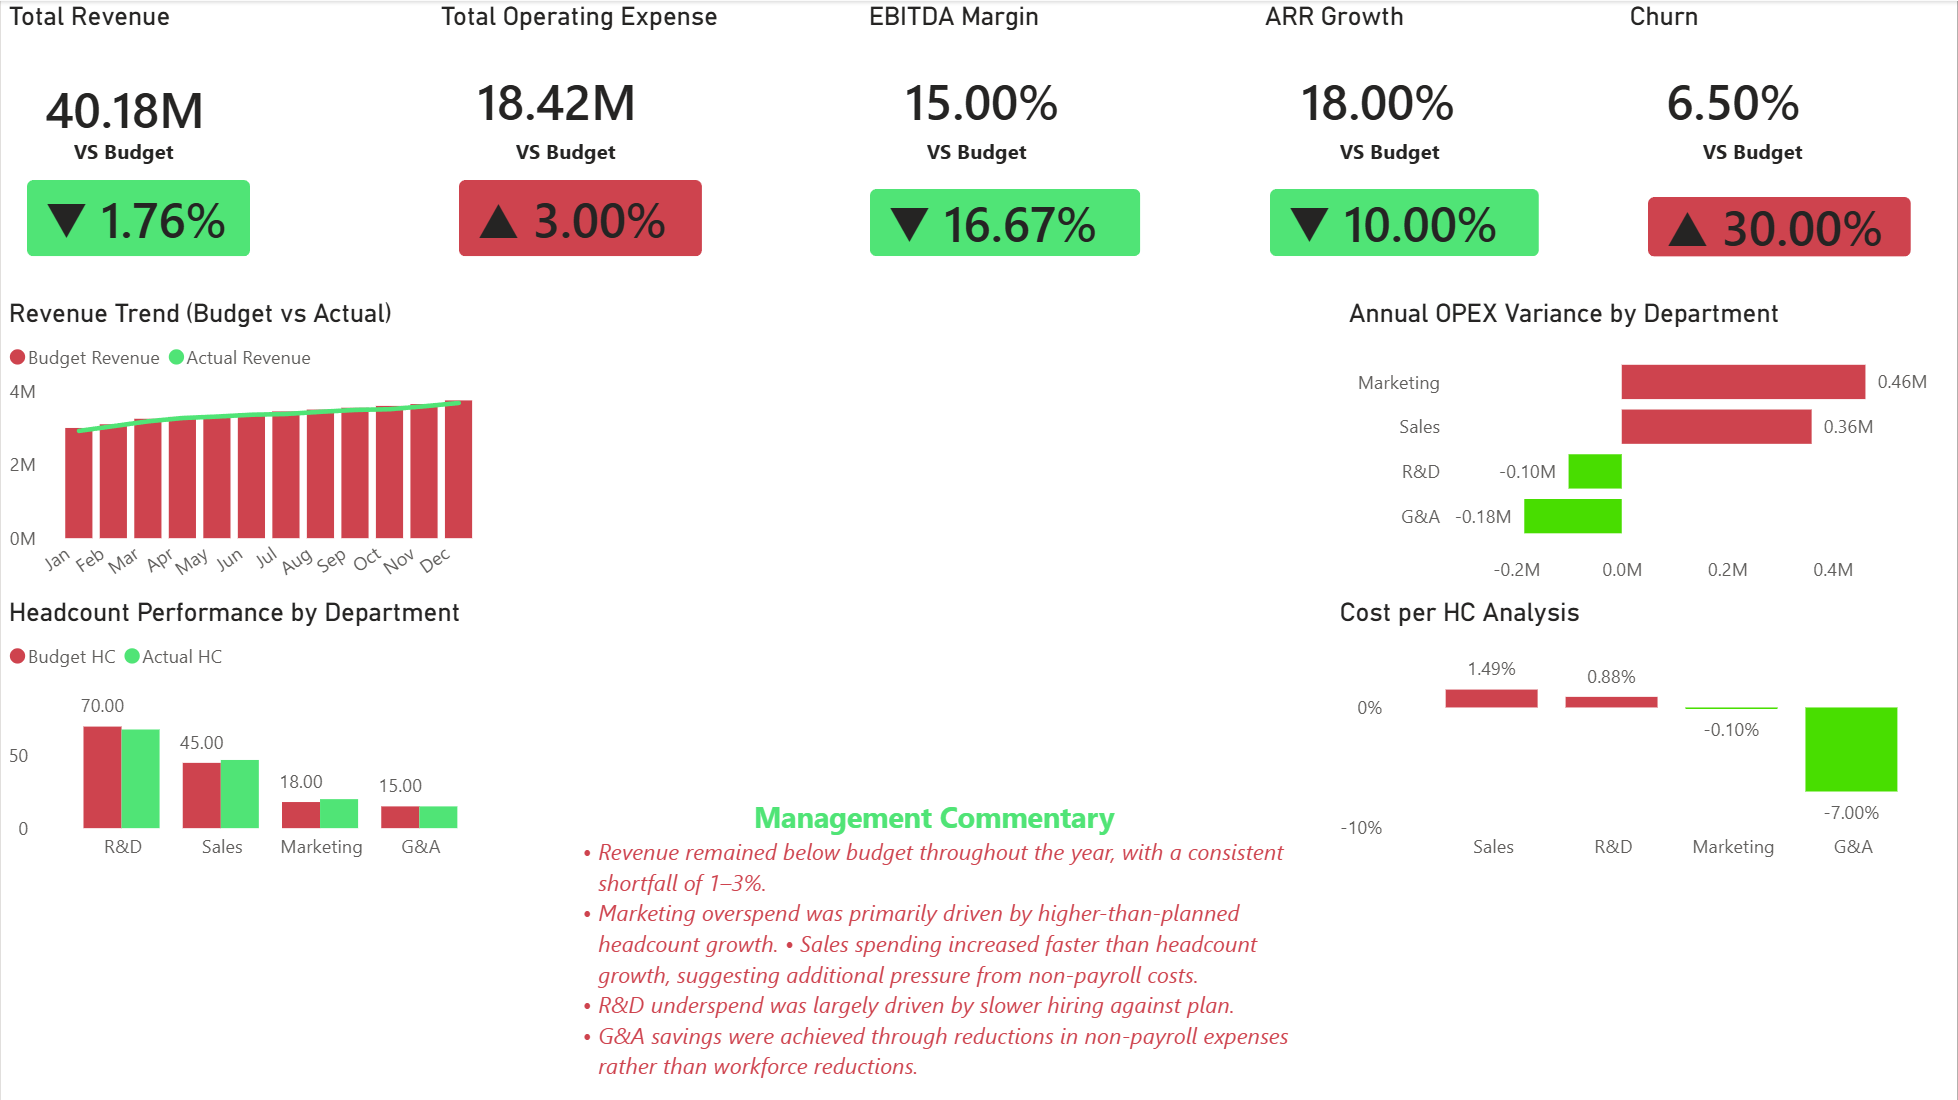

This screenshot's page, from the dashboard's own definition file:
{"tool":"powerbi","page":{"name":"FP&A Dashboard Portfolio","canvas":[1280,720],"ordinal":0},"visuals":[{"type":"lineClusteredColumnComboChart","title":"Revenue Trend (Budget vs Actual)","fields":{"Category":["Revenue.Month"],"Y":["Sum(Revenue.Budget Revenue)"],"Y2":["Sum(Revenue.Actual Revenue)"]},"box":[0,194.4,322.6,204.2],"z":0},{"type":"barChart","title":"Annual OPEX Variance by Department","fields":{"Category":["Operating Expense.Department"],"Y":["Sum(Operating Expense.Variance )"]},"box":[876.9,194.4,403.1,195.7],"z":1000},{"type":"cardVisual","title":"Total Revenue","fields":{"Data":["Sum(KPI.Actual)"]},"box":[0,0,196.3,121.7],"z":2000},{"type":"cardVisual","fields":{"Data":["KPI.Revenue Variance Label"]},"box":[0,100.1,180.6,84.4],"z":3000},{"type":"textbox","box":[42.5,84.4,95.5,31.4],"z":4000},{"type":"cardVisual","title":"Total Operating Expense","fields":{"Data":["Sum(KPI.Actual)"]},"box":[282.7,0,219.2,111.2],"z":5000},{"type":"cardVisual","fields":{"Data":["KPI.Revenue Variance Label"]},"box":[282.7,100.1,193,84.4],"z":5001},{"type":"textbox","box":[1108.5,90.3,95.5,31.4],"z":5002},{"type":"cardVisual","title":"EBITDA Margin","fields":{"Data":["Avg(KPI.Actual)"]},"box":[562.8,0,219.2,111.2],"z":5003},{"type":"cardVisual","title":"ARR Growth","fields":{"Data":["Avg(KPI.Actual)"]},"box":[821.9,0,219.2,111.2],"z":5004},{"type":"cardVisual","title":"Churn","fields":{"Data":["Avg(KPI.Actual)"]},"box":[1060.8,0,219.2,111.2],"z":5005},{"type":"cardVisual","fields":{"Data":["KPI.Revenue Variance Label"]},"box":[551.7,106,211.4,78.5],"z":5006},{"type":"cardVisual","fields":{"Data":["KPI.Revenue Variance Label"]},"box":[813.4,106,210.7,78.5],"z":5007},{"type":"cardVisual","fields":{"Data":["KPI.Revenue Variance Label"]},"box":[1060.8,111.2,206.1,73.3],"z":5008},{"type":"textbox","box":[600.7,84.4,95.5,31.4],"z":5009},{"type":"textbox","box":[871,84.4,95.5,31.4],"z":5010},{"type":"textbox","box":[1108.5,84.4,95.5,31.4],"z":5011},{"type":"textbox","box":[331.8,84.4,95.5,31.4],"z":5012},{"type":"clusteredColumnChart","title":"Headcount Performance by Department","fields":{"Category":["Headcount.Department"],"Y":["Avg(Headcount.Budget HC)","Avg(Headcount.Actual HC)"]},"box":[0,390,331.8,181.3],"z":5013},{"type":"columnChart","title":"Cost per HC Analysis","fields":{"Category":["Operating Expense.Department"],"Y":["Avg(Operating Expense.Cost Per HC Variance %)"]},"box":[871,390,409,181.3],"z":5014},{"type":"textbox","box":[363.8,516.3,493.4,203.5],"z":5015}]}

Visuals, with their boxes in screenshot pixels (x1, y1, x2, y2), scaled from the page's 1280x720 canvas onto the 1958x1100 screenshot:
"Revenue Trend (Budget vs Actual)" lineClusteredColumnComboChart: x1=0, y1=297, x2=493, y2=609
"Annual OPEX Variance by Department" barChart: x1=1341, y1=297, x2=1957, y2=596
"Total Revenue" cardVisual: x1=0, y1=0, x2=300, y2=186
cardVisual - KPI.Revenue Variance Label: x1=0, y1=153, x2=276, y2=282
textbox: x1=65, y1=129, x2=211, y2=177
"Total Operating Expense" cardVisual: x1=432, y1=0, x2=768, y2=170
cardVisual - KPI.Revenue Variance Label: x1=432, y1=153, x2=728, y2=282
textbox: x1=1696, y1=138, x2=1842, y2=186
"EBITDA Margin" cardVisual: x1=861, y1=0, x2=1196, y2=170
"ARR Growth" cardVisual: x1=1257, y1=0, x2=1593, y2=170
"Churn" cardVisual: x1=1623, y1=0, x2=1957, y2=170
cardVisual - KPI.Revenue Variance Label: x1=844, y1=162, x2=1167, y2=282
cardVisual - KPI.Revenue Variance Label: x1=1244, y1=162, x2=1567, y2=282
cardVisual - KPI.Revenue Variance Label: x1=1623, y1=170, x2=1938, y2=282
textbox: x1=919, y1=129, x2=1065, y2=177
textbox: x1=1332, y1=129, x2=1478, y2=177
textbox: x1=1696, y1=129, x2=1842, y2=177
textbox: x1=508, y1=129, x2=654, y2=177
"Headcount Performance by Department" clusteredColumnChart: x1=0, y1=596, x2=508, y2=873
"Cost per HC Analysis" columnChart: x1=1332, y1=596, x2=1957, y2=873
textbox: x1=557, y1=789, x2=1311, y2=1099
